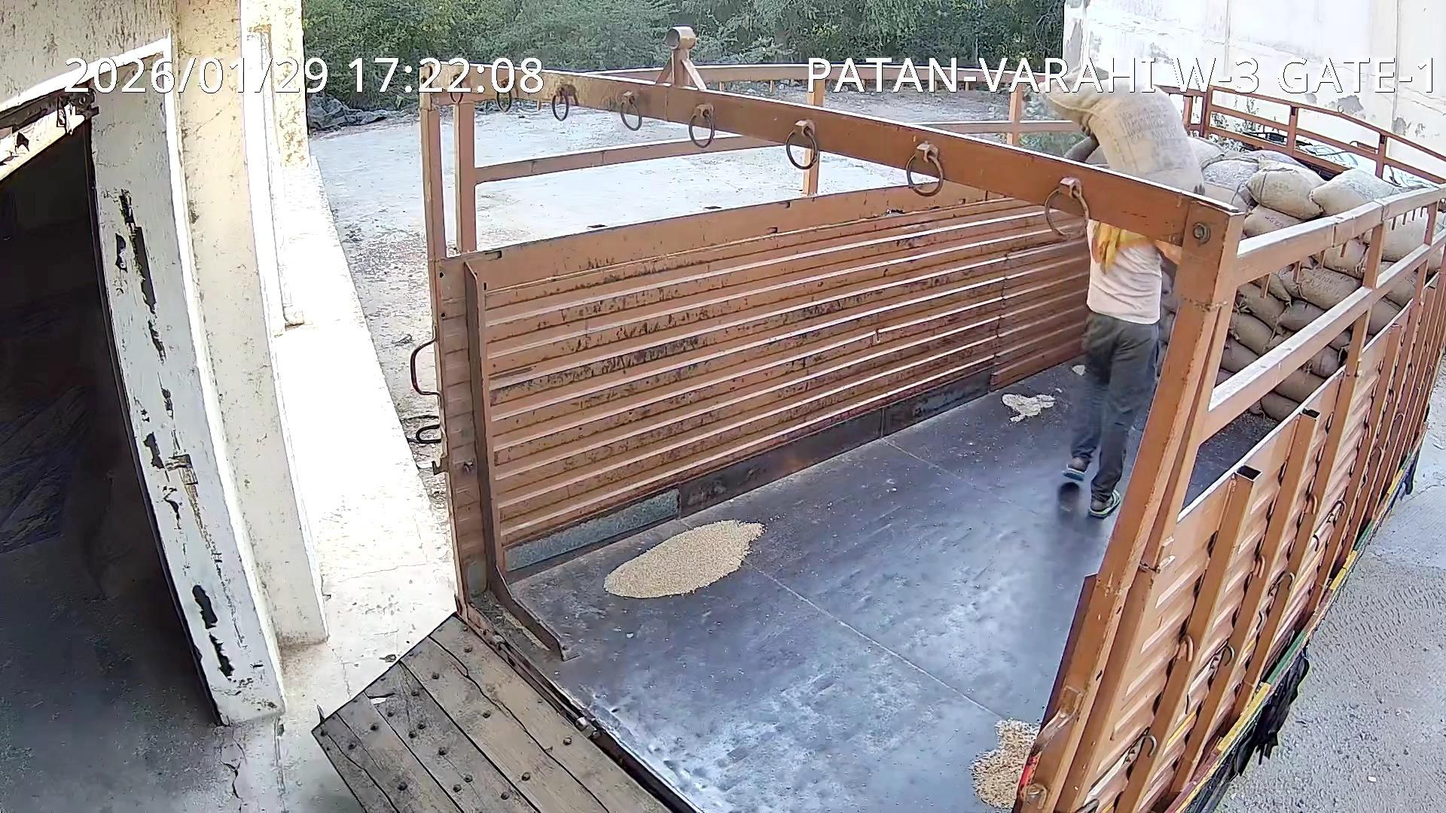Sack: (1045, 63, 1203, 191)
